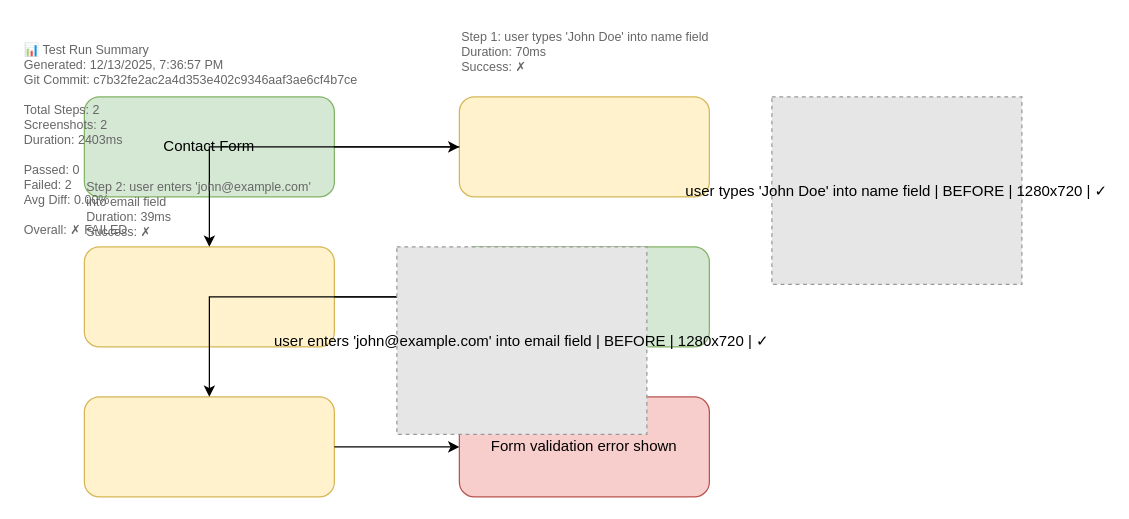
Image size: 1129x519. Some labels were removed from this diagram. Grey dashed boxes stand in for pictures. Here are the shapes that lost their labels. From the top down, the centre of each, then its label:
the point at 583,146: user types 'John Doe' into name field
the point at 208,296: user enters 'john@example.com' into email field
the point at 208,446: user clicks Submit button
